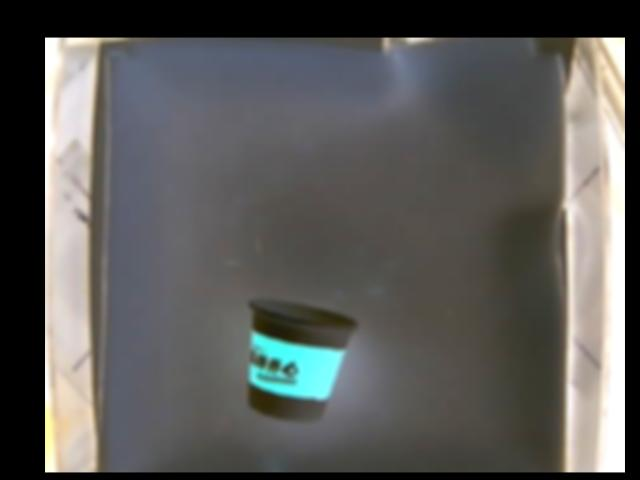Cup: (241, 295, 358, 421)
